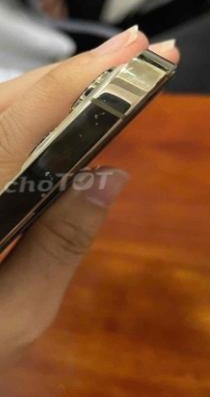scratch: (27, 91, 131, 205)
